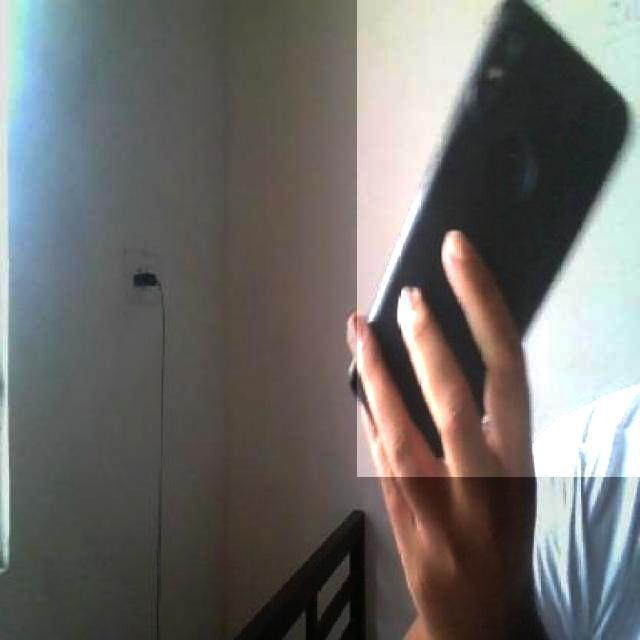lens: (484, 41, 550, 94)
phone: (357, 0, 640, 477)
